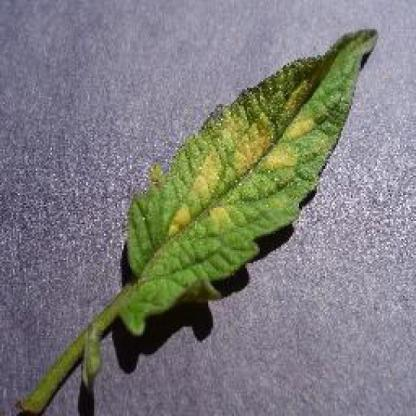Tomato_Leaf_Mold: (123, 28, 377, 338)
